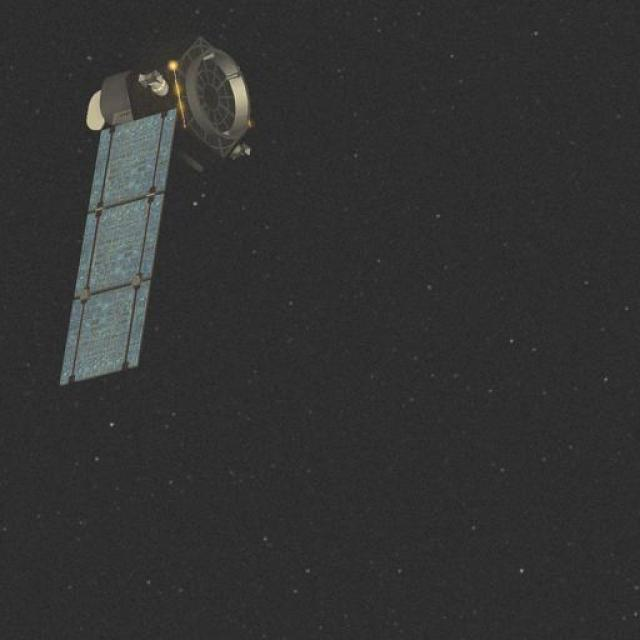earth_observation_sat_1: (88, 24, 252, 214)
